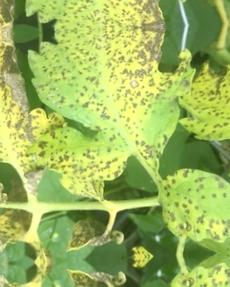Tomato leaf bacterial spot: (23, 25, 196, 164), (0, 30, 85, 200), (29, 122, 135, 204), (146, 161, 230, 249), (168, 44, 230, 146)
